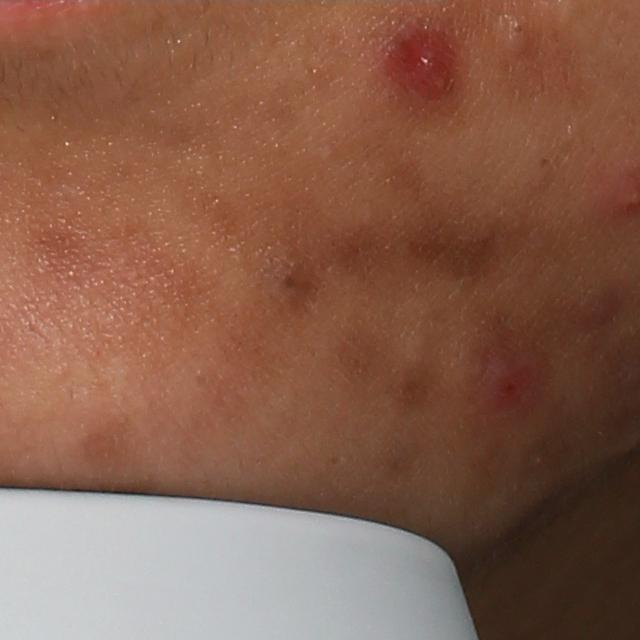papule: (395, 27, 462, 101), (476, 355, 542, 421)
